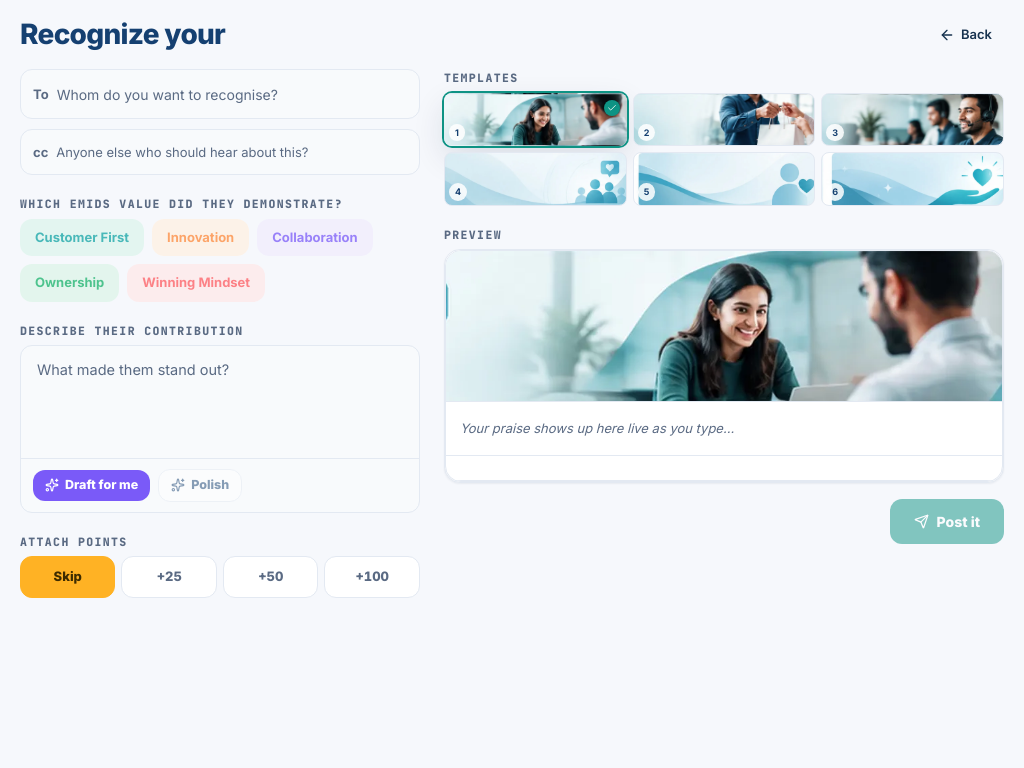
Test: ComposeForm (integration) › flags a too-short note that still unlocks the button
In the field with placeholder "Whom do you want to recognise?": {"x": 232, "y": 94} [57,78,407,110], type "priya"
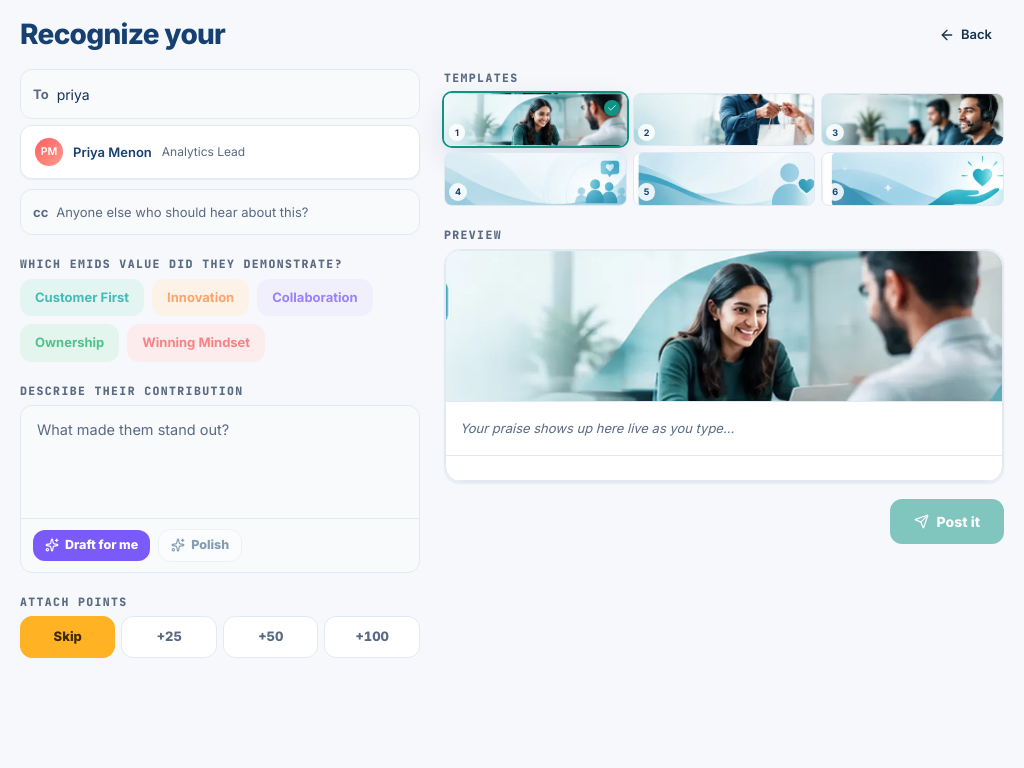
Click the text "Priya Menon": {"x": 112, "y": 152} [73,143,152,162]
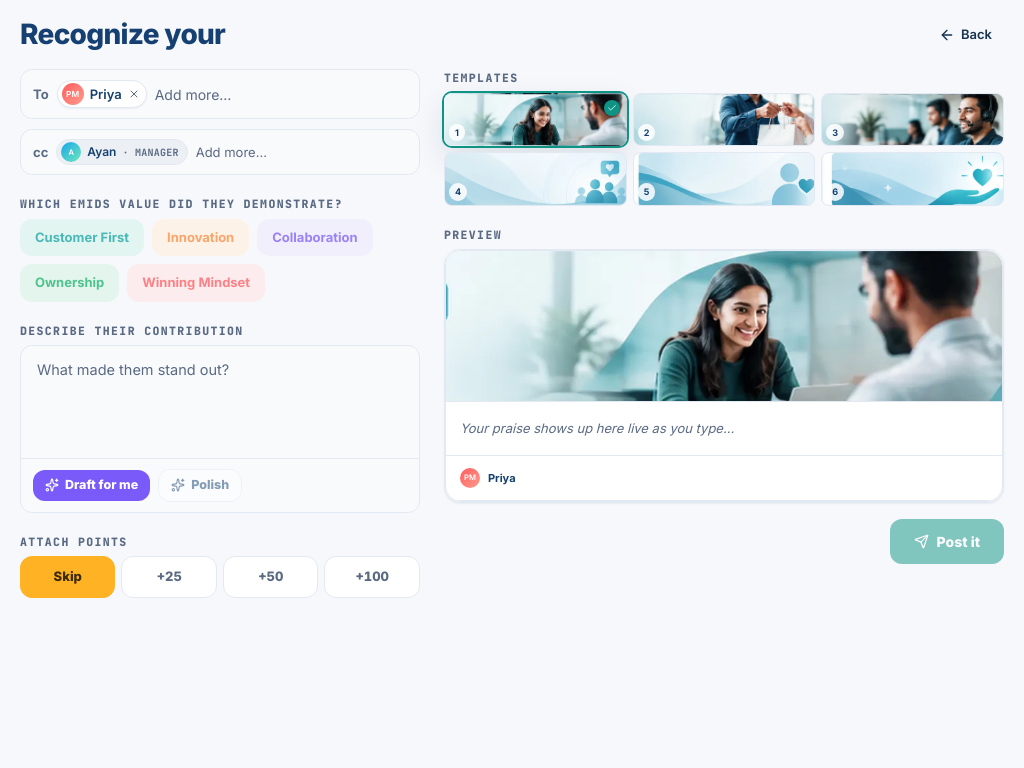
Click the button "Ownership": {"x": 70, "y": 283} [20,264,119,302]
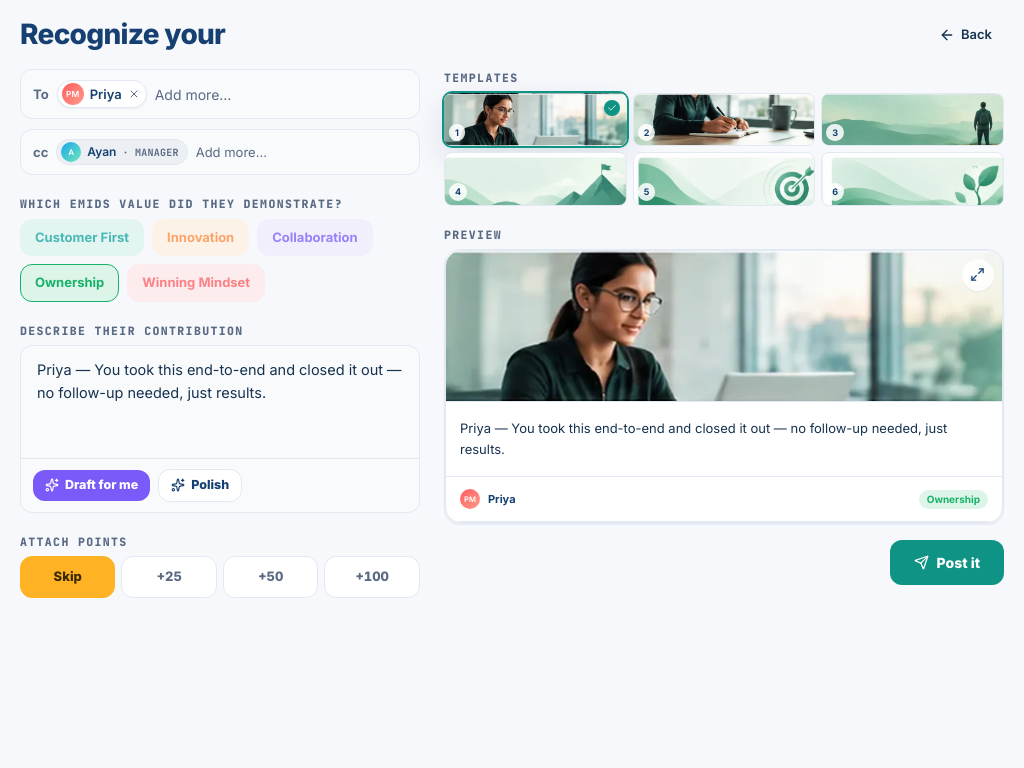
Replace the text in the text box with placeholder "What made them stand out?" with "abcdefghi": {"x": 220, "y": 399} [21,346,419,452]
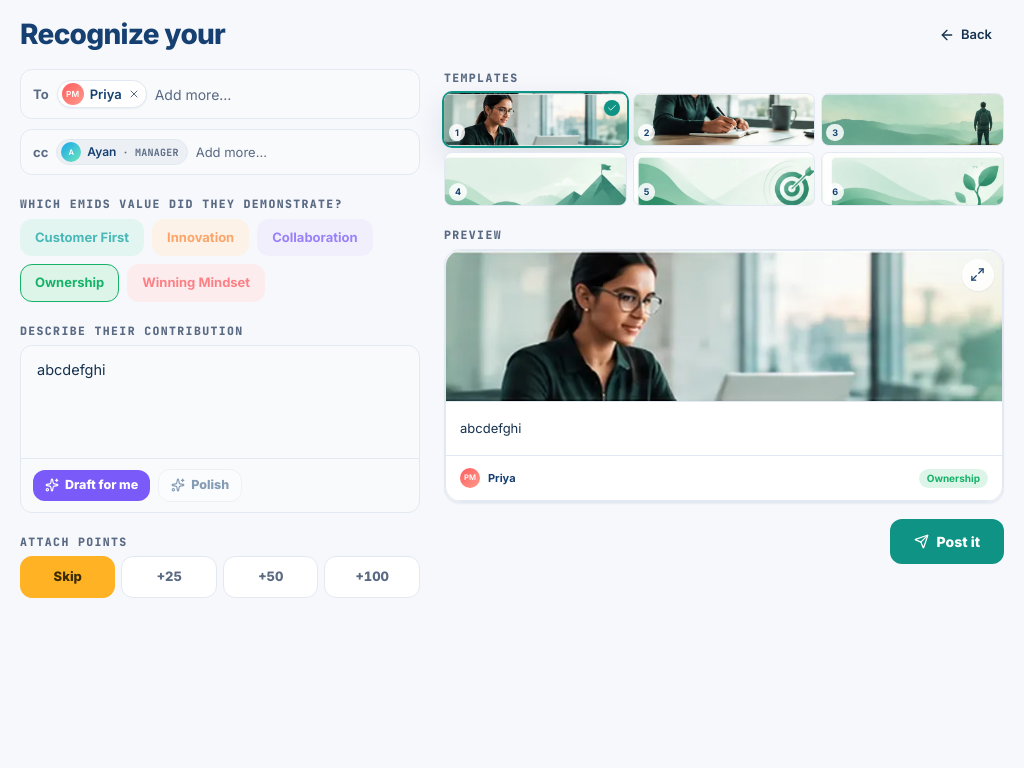
Click the button "Post it": {"x": 947, "y": 542} [890,519,1004,564]
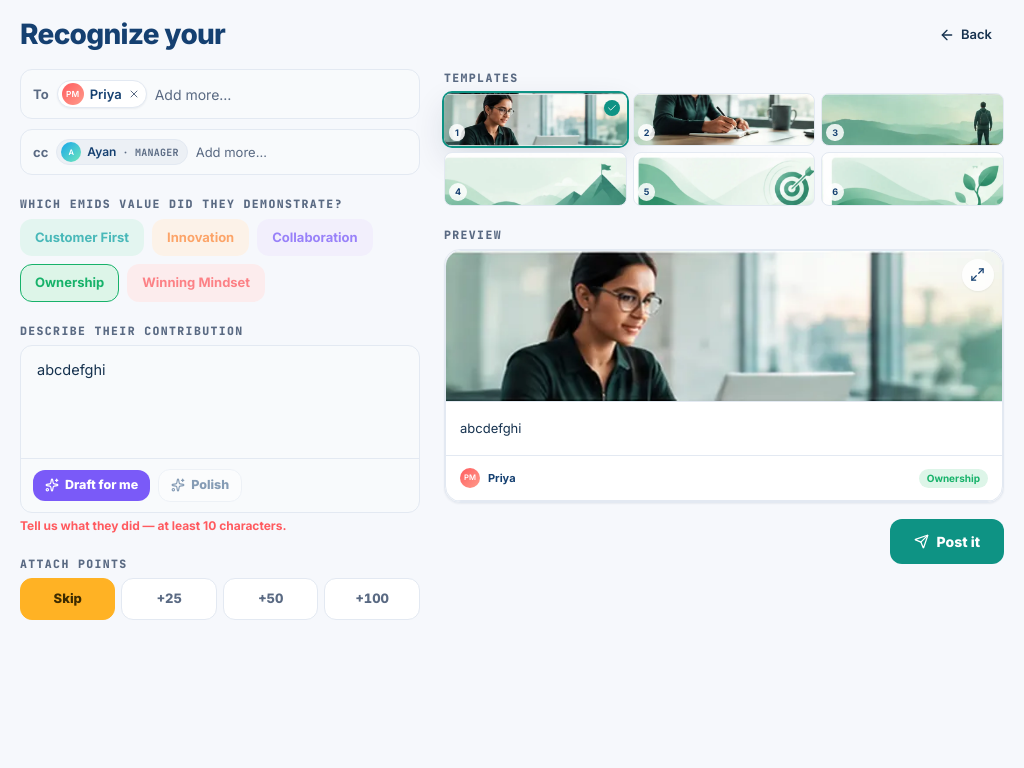
Expected: the text "Tell us what they did — at least 10 characters." is shown, [20,518,286,533]
